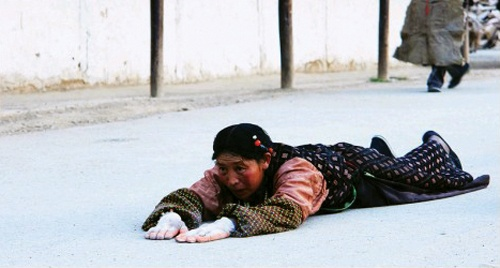falling: (131, 111, 488, 241)
